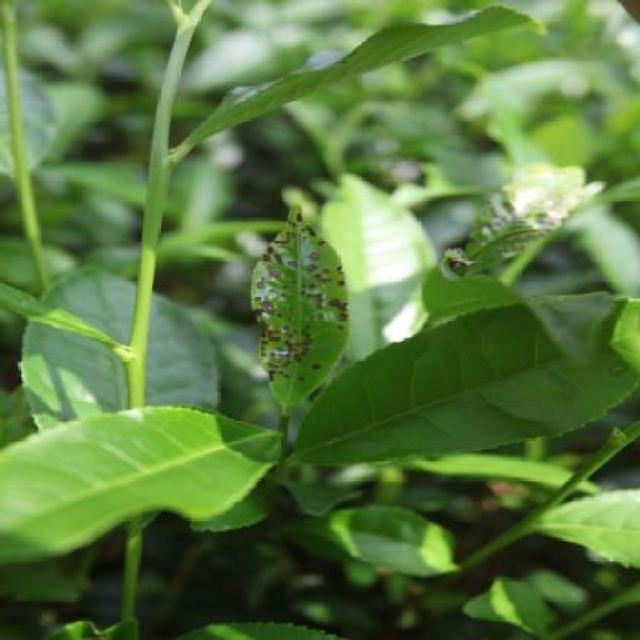Tea Mosquito bug infested leaf: (238, 197, 356, 428)
